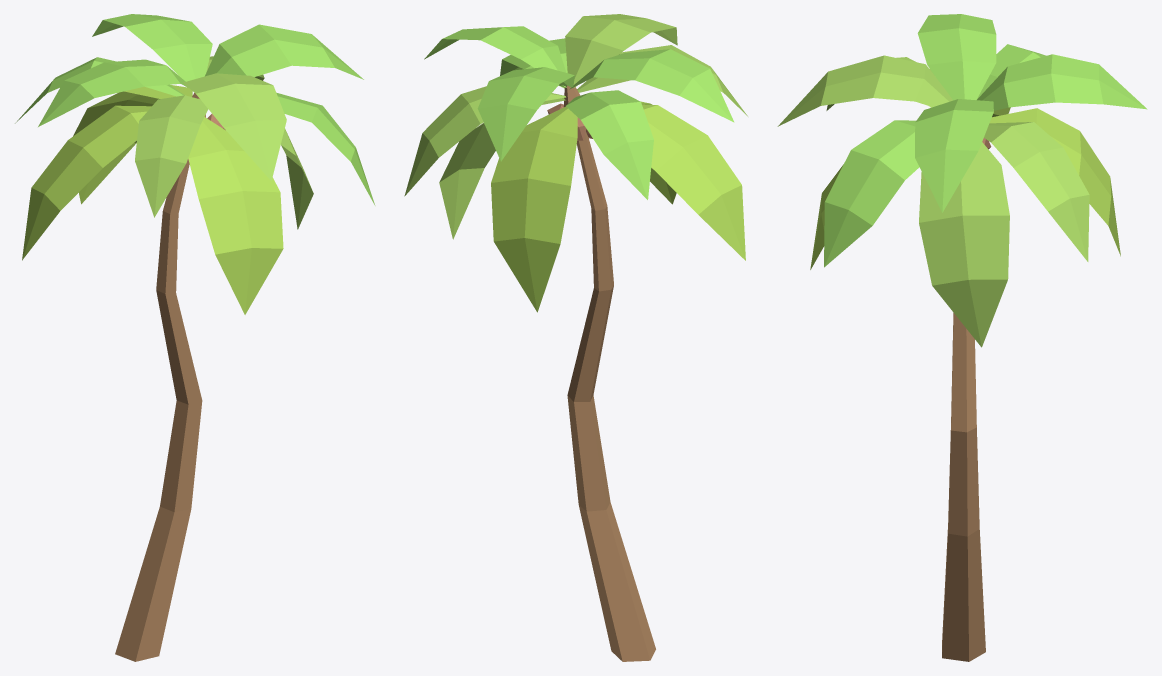
The model's file is Palm_Tree_Coconut_OneSided_l_04_LOD.fbx.
3 renders of one model, left to right at view 1: azimuth 30°, elevation 25°; view 2: azimuth 150°, elevation 25°; view 3: azimuth 270°, elevation 25°, orthographic. The views are drawn at different scales.
Parts seen in each view (by area): view 1: Palm_Tree_Coconut_OneSided_l_04_LOD0; view 2: Palm_Tree_Coconut_OneSided_l_04_LOD0; view 3: Palm_Tree_Coconut_OneSided_l_04_LOD0.
Part boxes in pixels (x1,y1,x2,y2): Palm_Tree_Coconut_OneSided_l_04_LOD0: (15, 14, 375, 661); Palm_Tree_Coconut_OneSided_l_04_LOD0: (404, 14, 747, 661); Palm_Tree_Coconut_OneSided_l_04_LOD0: (777, 14, 1147, 661).
Size of what is drawn, in the model's own units: 475 by 809 by 440.
